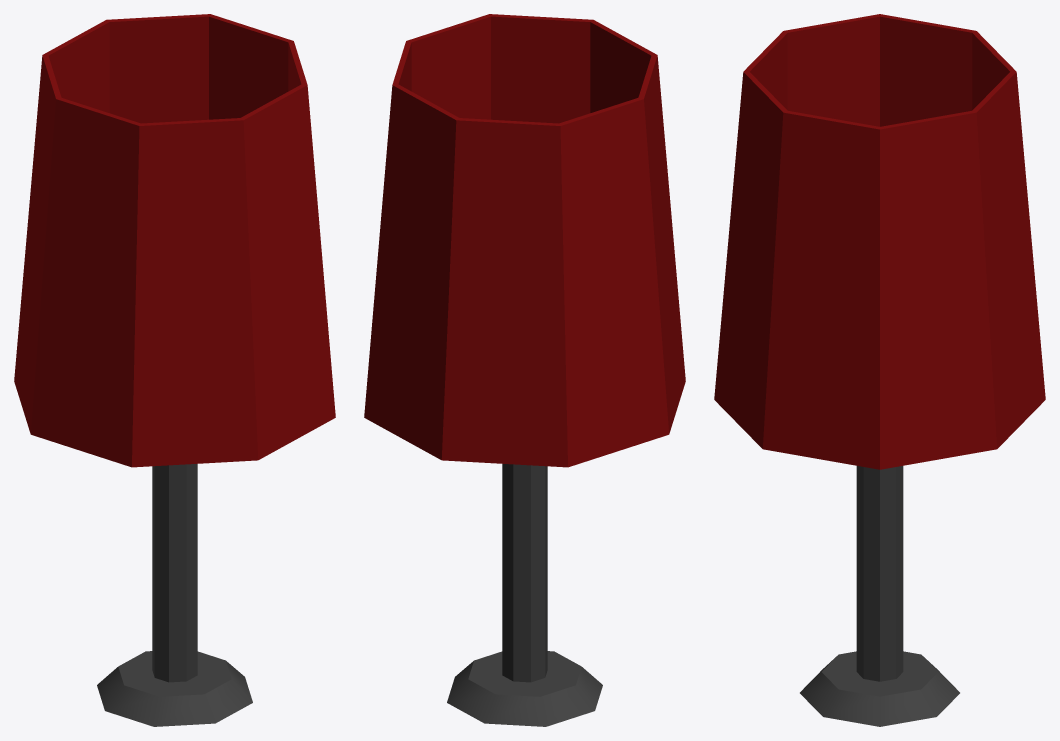
The model's file is LamparaNoche.FBX.
The picture shows the model from 3 angles, left to right: view 1: azimuth 30°, elevation 25°; view 2: azimuth 150°, elevation 25°; view 3: azimuth 270°, elevation 25°; orthographic projection.
Visible parts, largest first — view 1: LamparaNoche; view 2: LamparaNoche; view 3: LamparaNoche.
Boxes of the visible parts, <box> form: LamparaNoche: <box>14,14,335,726</box>; LamparaNoche: <box>364,14,685,726</box>; LamparaNoche: <box>714,14,1045,726</box>.
Size of the model in its own units: 0.8619 by 1.78 by 0.8619.
